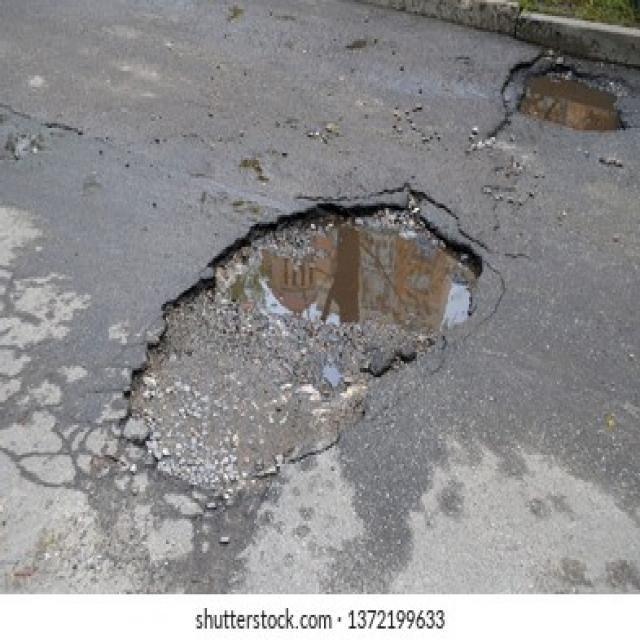Buraco: (110, 178, 495, 499), (483, 42, 640, 142)
